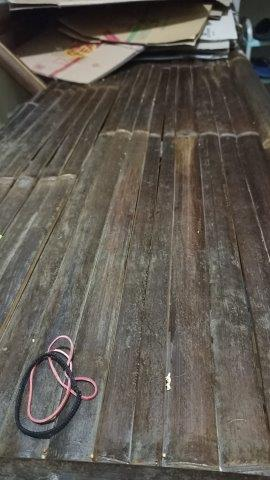karet: (14, 335, 98, 438)
